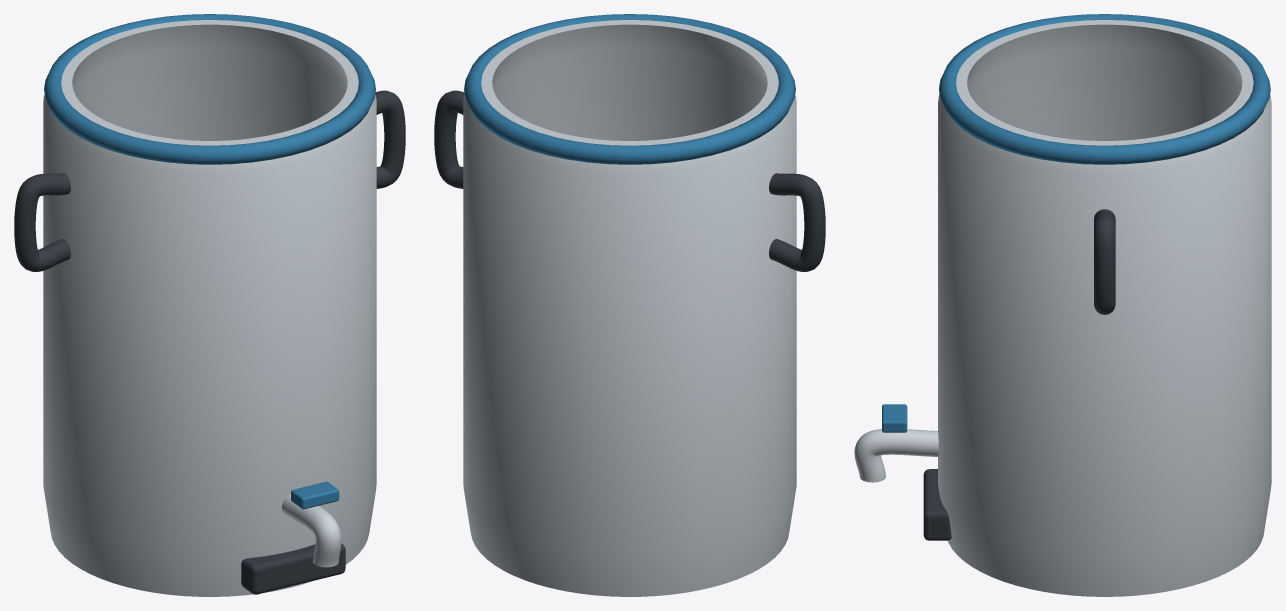
File: curling-club-and-ice-maintenance-pebble-water-urn-96b0f45c__31294.glb
The picture shows the model from 3 angles, left to right: view 1: azimuth 30°, elevation 25°; view 2: azimuth 150°, elevation 25°; view 3: azimuth 270°, elevation 25°; orthographic projection.
Parts seen in each view (by area): view 1: pebble-water-urn; view 2: pebble-water-urn; view 3: pebble-water-urn.
Part boxes in pixels (x1=…): pebble-water-urn: x1=14, y1=14, x2=405, y2=596; pebble-water-urn: x1=434, y1=14, x2=825, y2=596; pebble-water-urn: x1=854, y1=14, x2=1271, y2=596.
Size of the model in its own units: 0.6194 by 0.684 by 0.5754.
